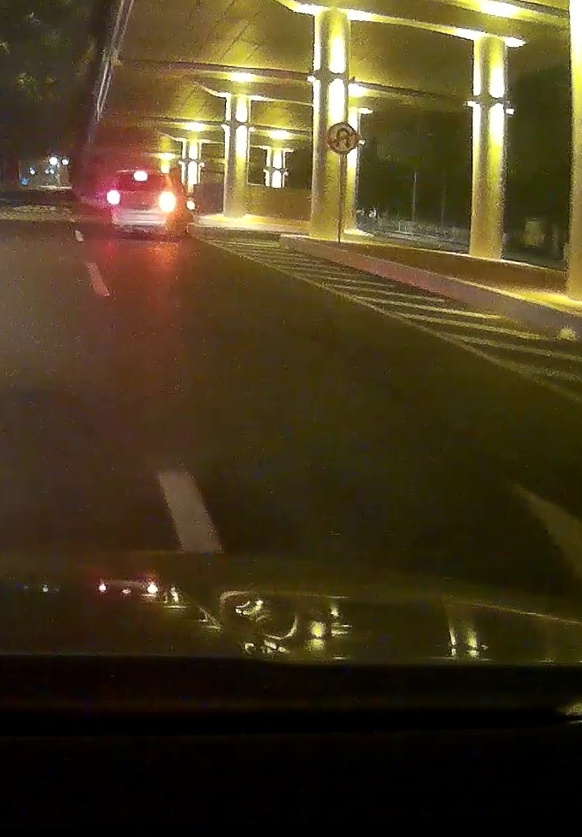L_light: (107, 190, 121, 205)
R_light: (160, 193, 175, 208)
T_light: (133, 172, 147, 180)
night-right: (106, 169, 176, 241)
